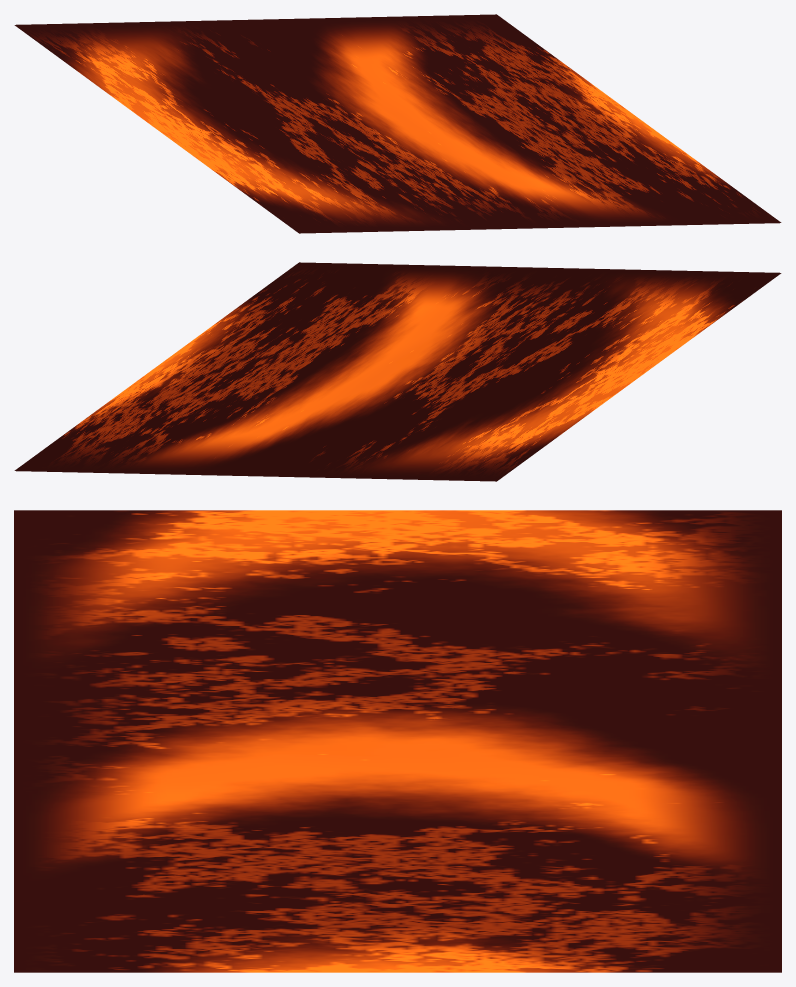
The model's file is ripple_12.glb.
3 views of the same model, one above another, from view 1: azimuth 30°, elevation 25°; view 2: azimuth 150°, elevation 25°; view 3: azimuth 270°, elevation 25° (orthographic). The views are drawn at different scales.
Parts seen in each view (by area): view 1: r; view 2: r; view 3: r.
Part boxes in pixels (box(x1,y1,x2,y2)): r: box(14, 14, 781, 233); r: box(14, 262, 781, 481); r: box(14, 510, 781, 972).
Bounding box in the file's own units: 0.9781 × 0.2079 × 1.
Materials: 1 (1 with a texture image).
